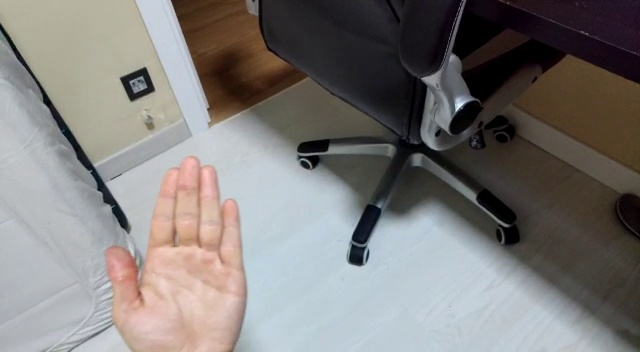Palm: (89, 154, 248, 350)
